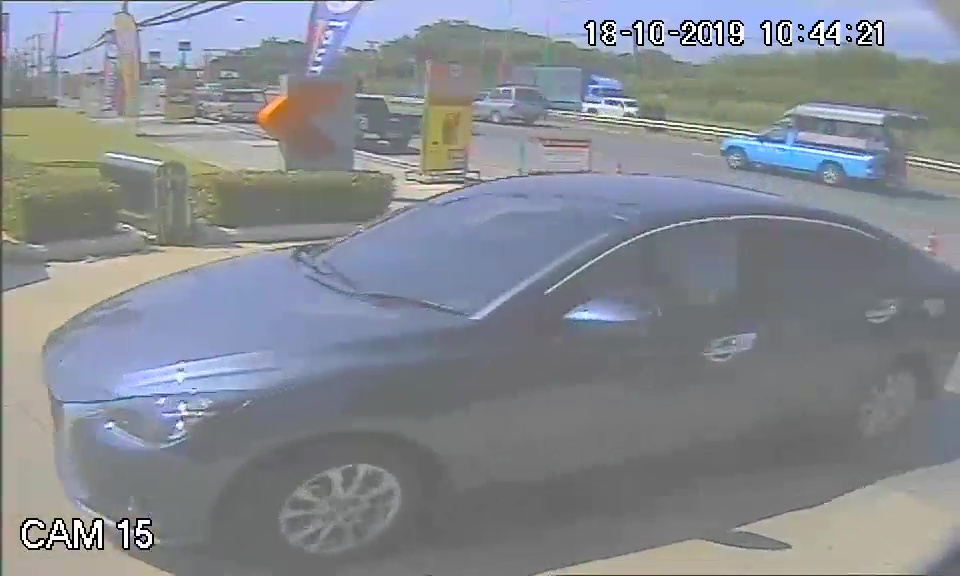sedan: (34, 169, 830, 539)
